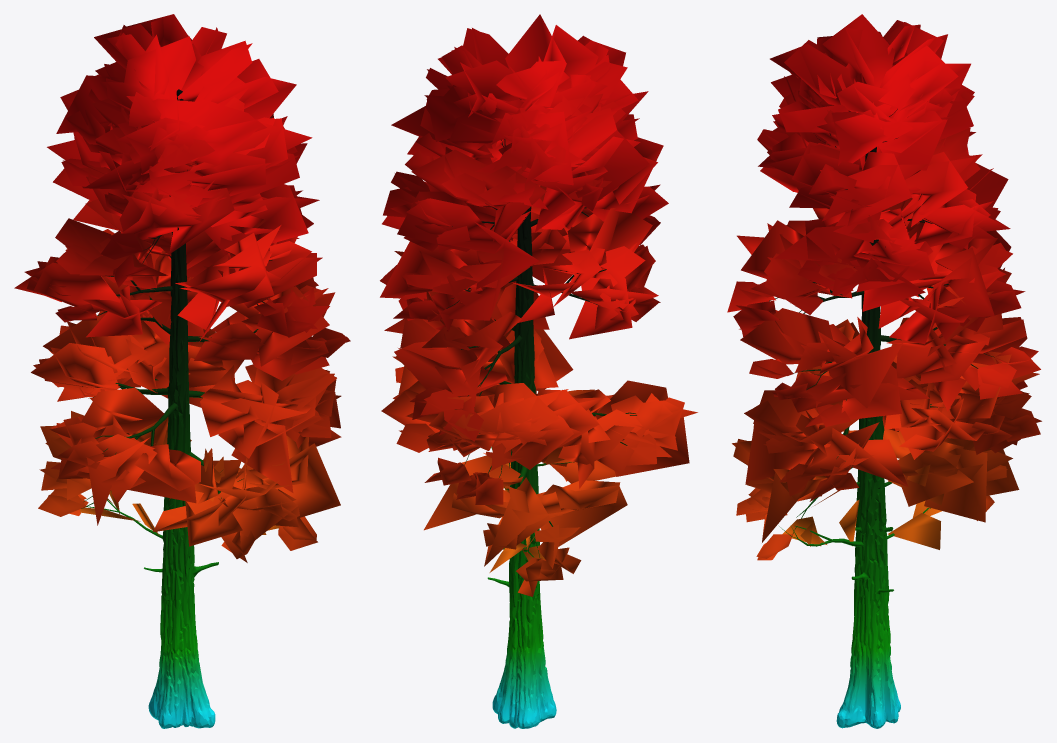
File: Sequoia1.fbx
3 renders of one model, left to right at view 1: azimuth 30°, elevation 25°; view 2: azimuth 150°, elevation 25°; view 3: azimuth 270°, elevation 25°, orthographic.
Parts seen in each view (by area): view 1: Sequoia1_LOD0; view 2: Sequoia1_LOD0; view 3: Sequoia1_LOD0.
Part boxes in pixels (<box>): Sequoia1_LOD0: <box>14,14,350,728</box>; Sequoia1_LOD0: <box>380,14,697,728</box>; Sequoia1_LOD0: <box>727,14,1041,728</box>.
Size of what is drawn, in the model's own units: 1455 by 3362 by 1384.
